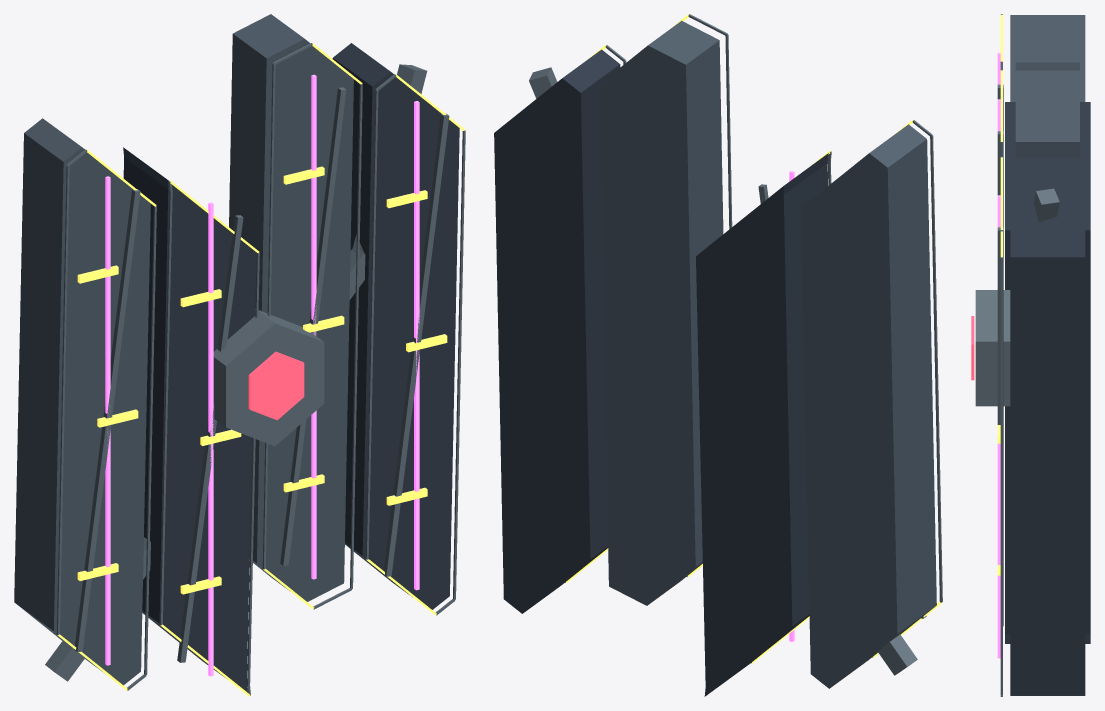
The model's file is broken_baffle_1.glb.
3 renders of one model, left to right at view 1: azimuth 30°, elevation 25°; view 2: azimuth 150°, elevation 25°; view 3: azimuth 270°, elevation 25°, orthographic. The views are drawn at different scales.
Parts seen in each view (by area): view 1: broken_baffle_1; view 2: broken_baffle_1; view 3: broken_baffle_1.
Part boxes in pixels (left/top/right/bottom): broken_baffle_1: left=14, top=14, right=465, bottom=696; broken_baffle_1: left=494, top=14, right=942, bottom=696; broken_baffle_1: left=971, top=14, right=1090, bottom=696.
Bounding box in the file's own units: 41.6 × 62.17 × 11.15.
